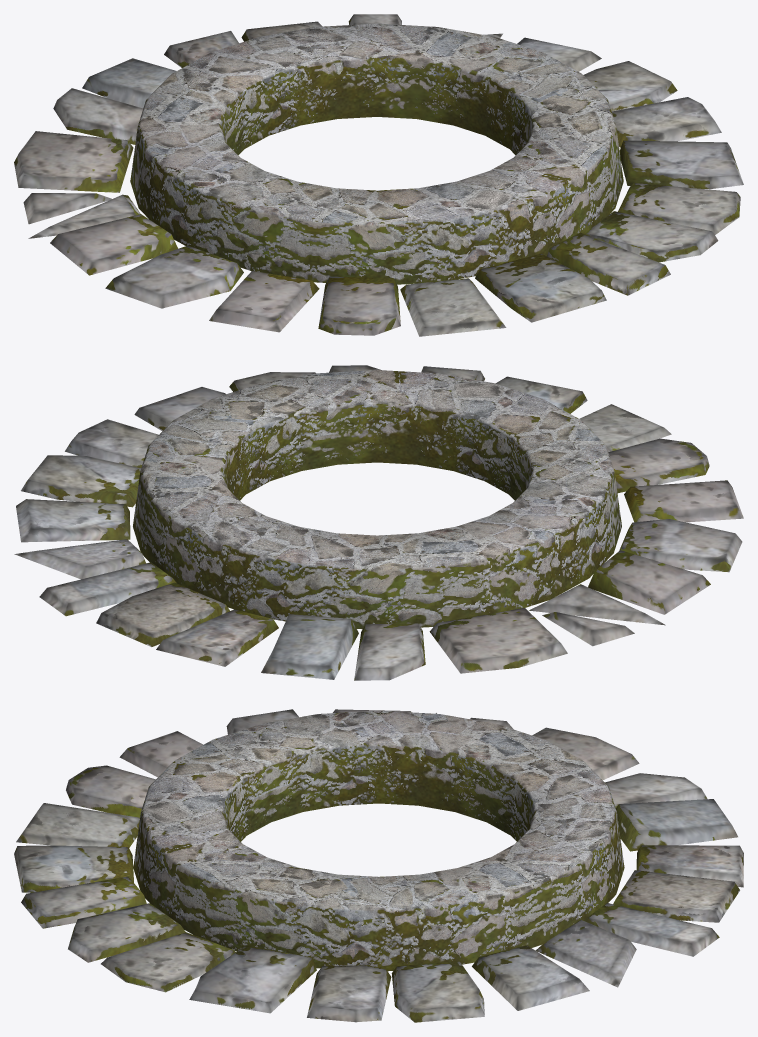
Rendered from well.FBX.
3 renders of one model, top to bottom at view 1: azimuth 30°, elevation 25°; view 2: azimuth 150°, elevation 25°; view 3: azimuth 270°, elevation 25°, orthographic.
Parts seen in each view (by area): view 1: Tube001, Box018, Box002, Box021, Box007, Box020, Box024, Box025, Box006, Box022, Box003, Box005 (+9 smaller); view 2: Tube001, Box018, Box014, Box021, Box015, Box009, Box020, Box010, Box022, Box026, Box019, Box024 (+8 smaller); view 3: Tube001, Box007, Box015, Box009, Box014, Box002, Box006, Box010, Box005, Box008, Box025, Box003 (+8 smaller).
Boxes of the visible parts, bbox=[...] form: Tube001: bbox=[130, 23, 623, 284]; Box018: bbox=[14, 131, 133, 192]; Box002: bbox=[475, 253, 606, 322]; Box021: bbox=[105, 245, 243, 308]; Box007: bbox=[619, 140, 743, 189]; Box020: bbox=[50, 214, 177, 275]; Box024: bbox=[318, 276, 400, 335]; Box025: bbox=[400, 278, 506, 336]; Box006: bbox=[618, 183, 740, 234]; Box022: bbox=[209, 270, 319, 332]; Box003: bbox=[547, 232, 670, 295]; Box005: bbox=[584, 211, 718, 262]; Tube001: bbox=[133, 370, 621, 629]; Box018: bbox=[429, 607, 567, 673]; Box014: bbox=[96, 582, 229, 646]; Box021: bbox=[619, 519, 742, 572]; Box015: bbox=[261, 614, 358, 679]; Box009: bbox=[21, 455, 141, 507]; Box020: bbox=[588, 550, 710, 614]; Box010: bbox=[16, 499, 130, 542]; Box022: bbox=[624, 480, 743, 522]; Box026: bbox=[156, 609, 278, 666]; Box019: bbox=[529, 584, 665, 646]; Box024: bbox=[608, 438, 709, 492]; Tube001: bbox=[133, 710, 624, 971]; Box007: bbox=[189, 945, 316, 1013]; Box015: bbox=[616, 799, 737, 851]; Box009: bbox=[391, 961, 484, 1022]; Box014: bbox=[613, 870, 739, 922]; Box002: bbox=[14, 845, 133, 892]; Box006: bbox=[101, 932, 235, 992]; Box010: bbox=[472, 945, 589, 1010]; Box005: bbox=[68, 903, 185, 962]; Box008: bbox=[307, 965, 391, 1022]; Box025: bbox=[16, 803, 139, 847]; Box003: bbox=[21, 876, 146, 928].
Bounding box in the file's own units: 6.89 × 0.6194 × 6.85.
